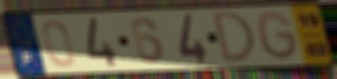0: (40, 18, 78, 70)
4: (176, 11, 209, 66), (86, 15, 119, 69)
6: (129, 16, 168, 66)
D: (211, 9, 259, 66)
G: (254, 9, 301, 63)
